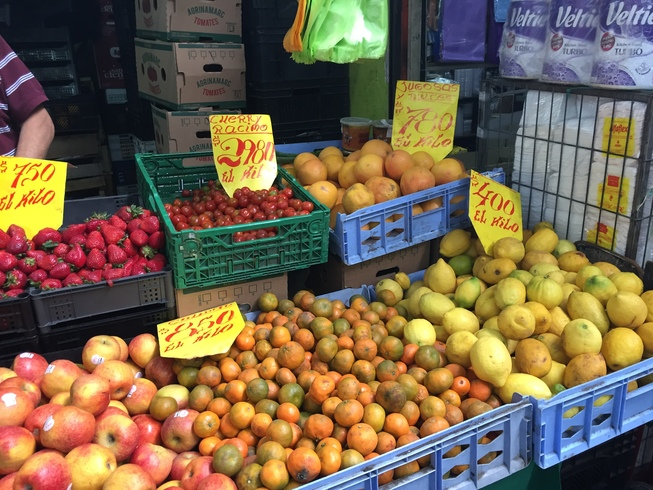precio: (201, 109, 291, 204), (152, 304, 265, 379), (467, 164, 537, 271), (1, 154, 75, 246), (388, 74, 457, 170)
